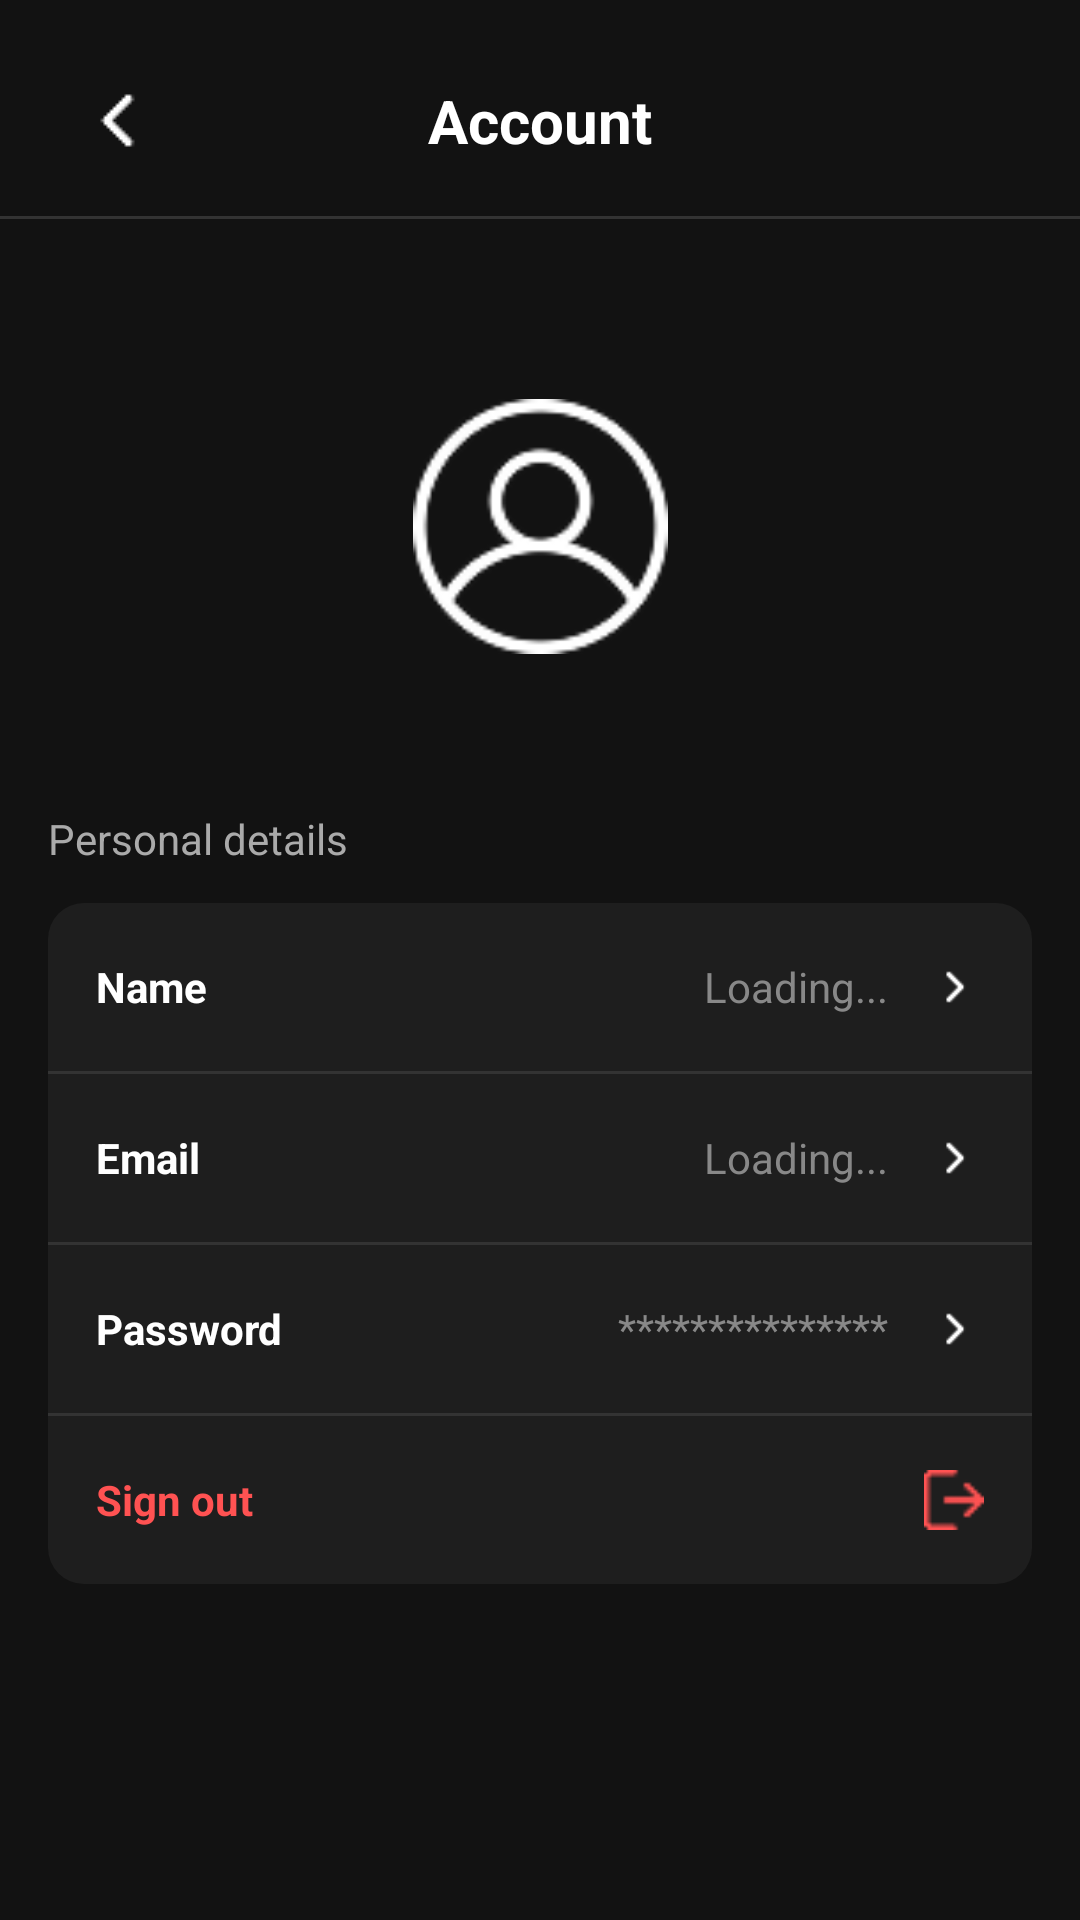

Named icons in this screenshot (1080 x 1920) and their bounding boxes, (x1, y1, x2, y2):
account: (413, 399, 668, 654)
back: (100, 94, 135, 147)
